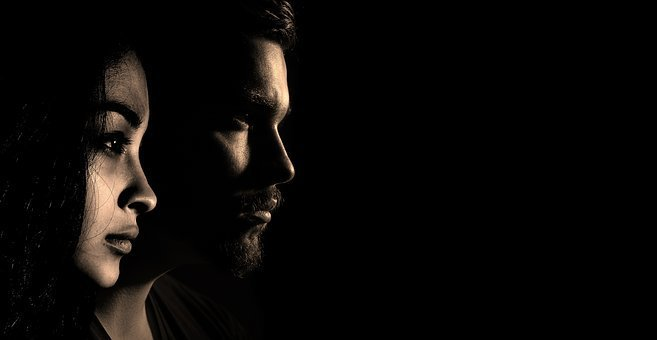noMask: (170, 28, 316, 270), (32, 27, 160, 283)
